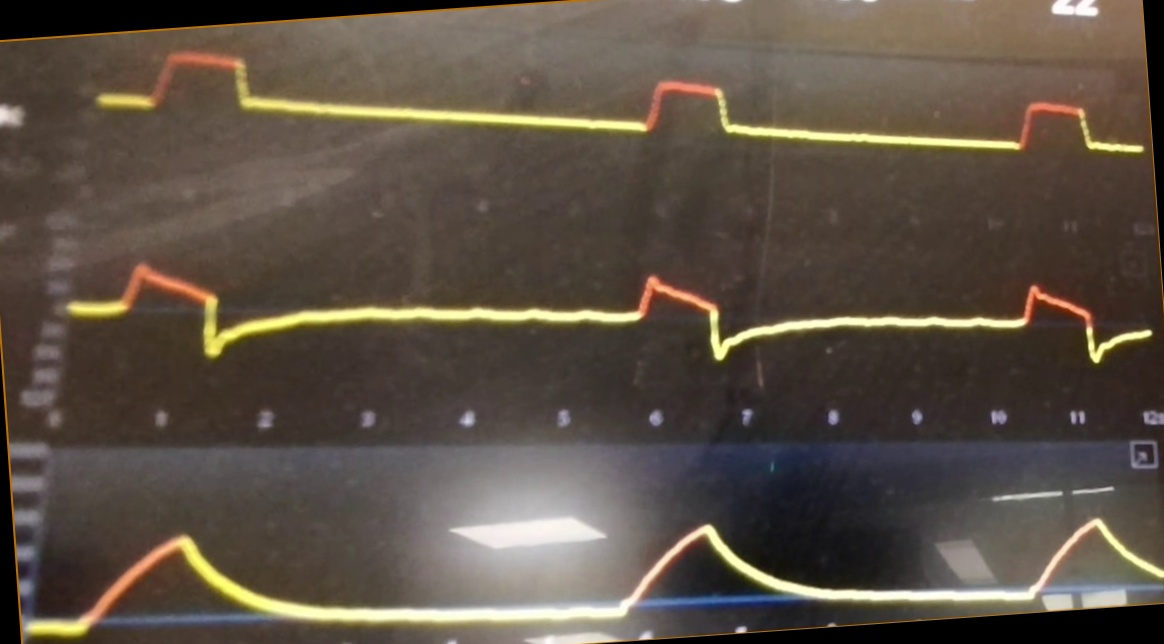Normal Flow: (66, 234, 1156, 372)
Normal Volume: (30, 477, 1164, 635)
